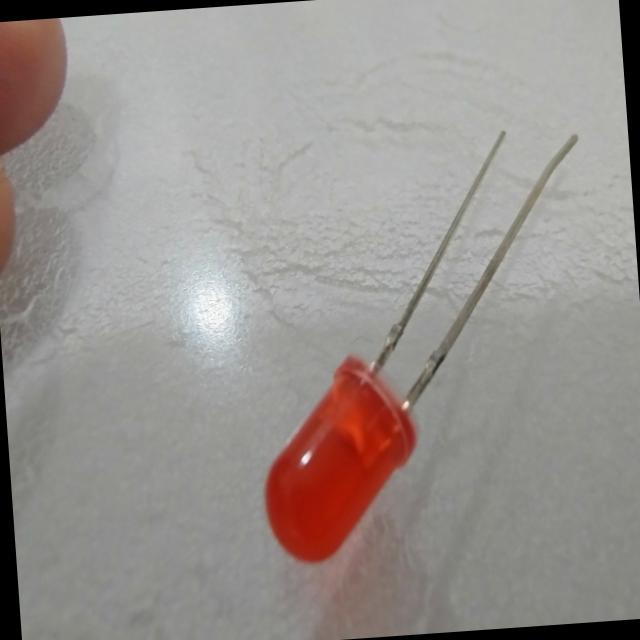red_led: (237, 347, 449, 597)
